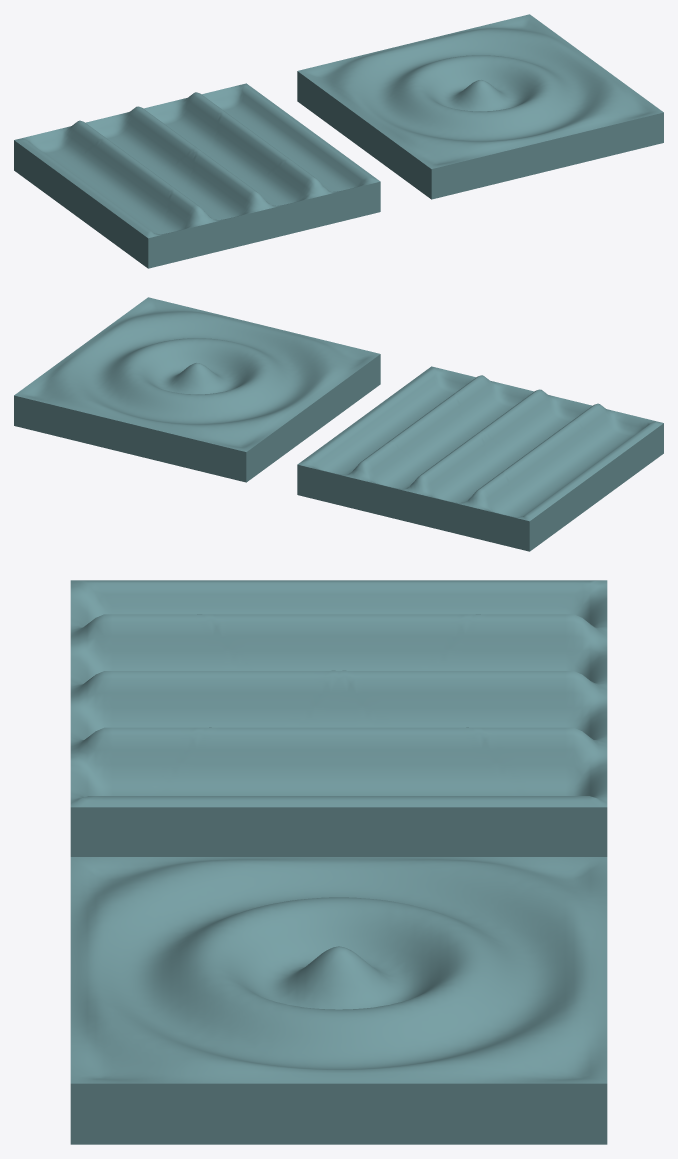
Rendered from paths_waves.glb.
3 views of the same model, one above another, from view 1: azimuth 30°, elevation 25°; view 2: azimuth 150°, elevation 25°; view 3: azimuth 270°, elevation 25° (orthographic). The views are drawn at different scales.
Visible parts, largest first — view 1: waves0; view 2: waves0; view 3: waves0.
Part boxes in pixels (<box>): waves0: <box>14,14,663,268</box>; waves0: <box>14,297,663,551</box>; waves0: <box>70,580,607,1144</box>.
Size of the model in its own units: 0.142 by 0.011 by 0.064.
